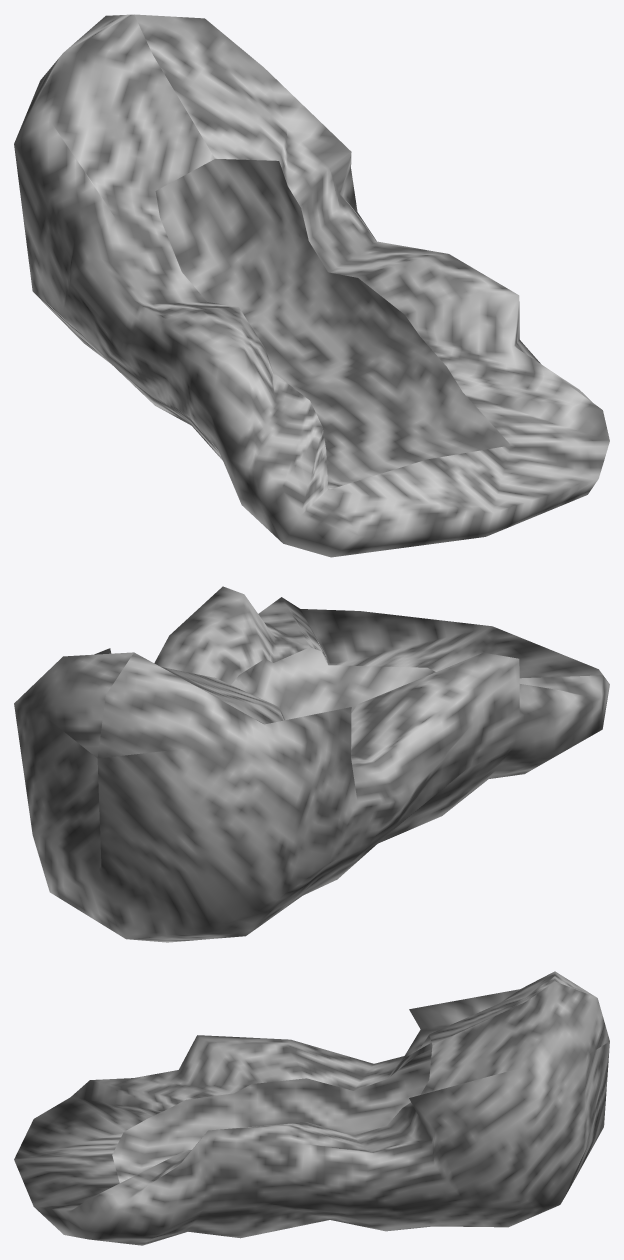
File: Wig_Bob_Hair_MulletCurly.fbx
3 renders of one model, top to bottom at view 1: azimuth 30°, elevation 25°; view 2: azimuth 150°, elevation 25°; view 3: azimuth 270°, elevation 25°, orthographic. The views are drawn at different scales.
Parts seen in each view (by area): view 1: BoxOfJars003; view 2: BoxOfJars003; view 3: BoxOfJars003.
Boxes of the visible parts, x1,y1,x2,y2 form: BoxOfJars003: (14, 14, 609, 557); BoxOfJars003: (14, 586, 609, 942); BoxOfJars003: (14, 971, 609, 1245).
Size of the model in its own units: 13.84 by 12.19 by 27.73.
